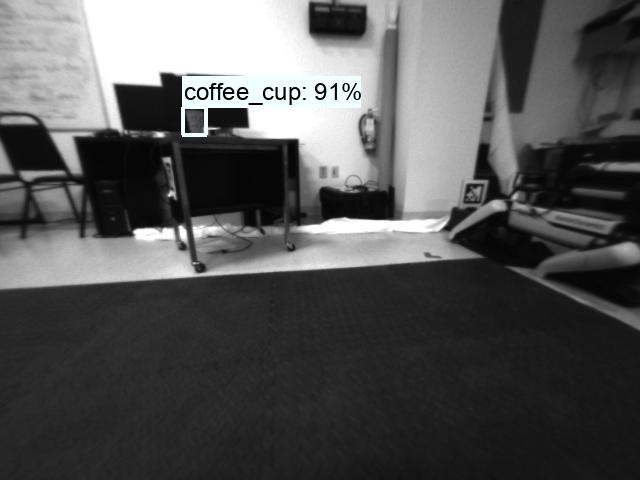coffee_cup: (181, 108, 207, 135)
